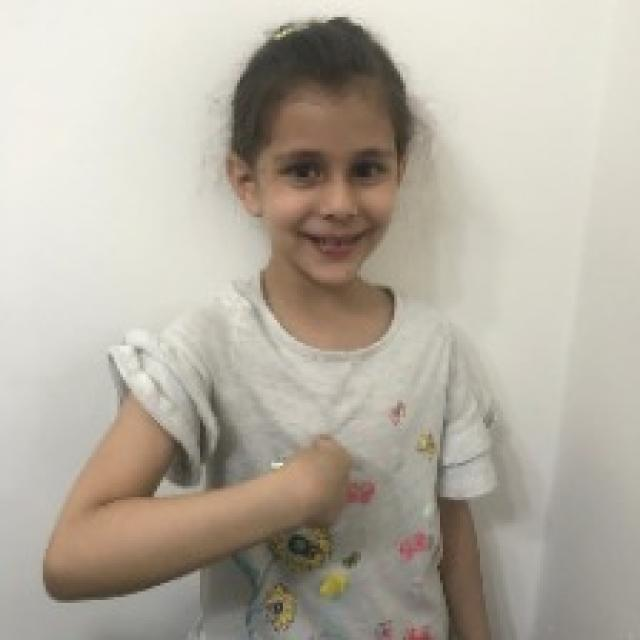me: (291, 428, 358, 537)
